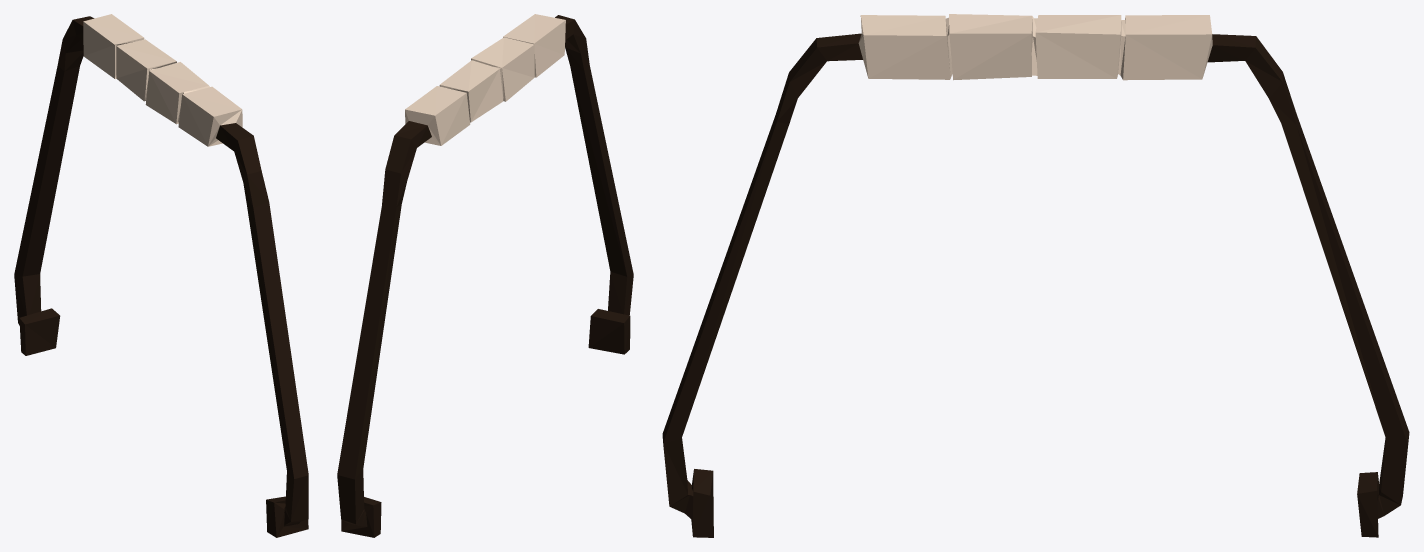
File: SFFA_Bucket_Hanger.fbx
3 renders of one model, left to right at view 1: azimuth 30°, elevation 25°; view 2: azimuth 150°, elevation 25°; view 3: azimuth 270°, elevation 25°, orthographic. The views are drawn at different scales.
Parts seen in each view (by area): view 1: SFFA_Bucket_Hanger; view 2: SFFA_Bucket_Hanger; view 3: SFFA_Bucket_Hanger.
Boxes of the visible parts, x1=… form: SFFA_Bucket_Hanger: x1=14, y1=14, x2=308, y2=537; SFFA_Bucket_Hanger: x1=337, y1=14, x2=633, y2=537; SFFA_Bucket_Hanger: x1=662, y1=14, x2=1409, y2=537.
Bounding box in the file's own units: 2.63 × 25.91 × 34.8.
